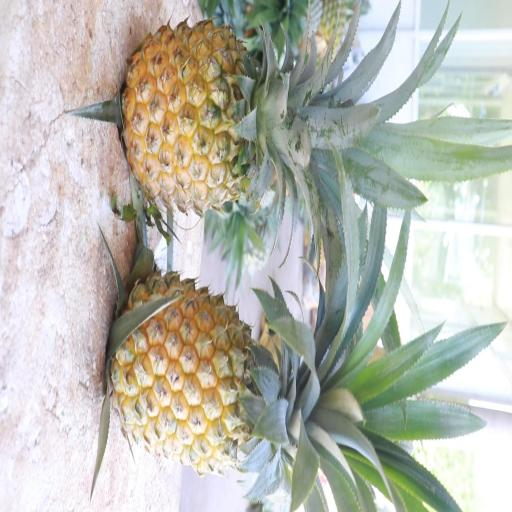Pineapple - v8 v1: (104, 271, 372, 482), (118, 14, 341, 222)
